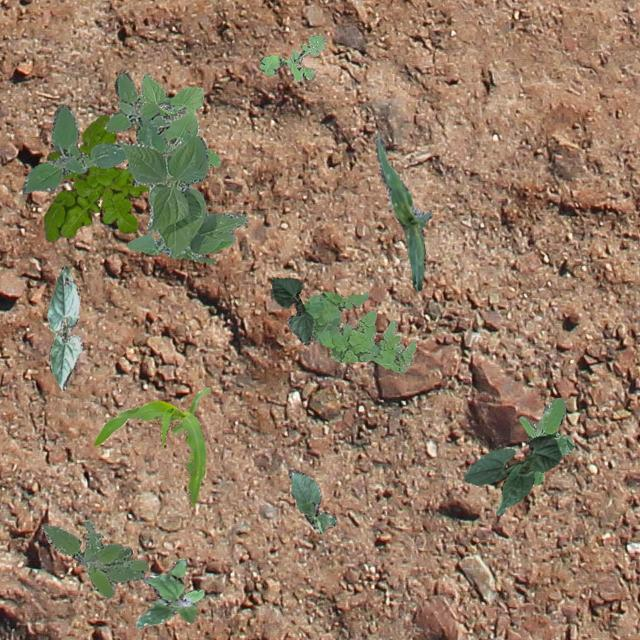crop: (120, 128, 248, 264), (92, 386, 210, 506), (374, 134, 432, 290), (462, 434, 560, 514), (46, 264, 82, 390), (288, 468, 336, 532), (270, 276, 312, 344)
weed: (21, 70, 190, 192), (43, 114, 148, 240), (302, 290, 416, 372), (41, 518, 148, 598), (136, 72, 220, 166), (518, 396, 574, 484), (134, 558, 202, 628), (258, 34, 324, 80)
